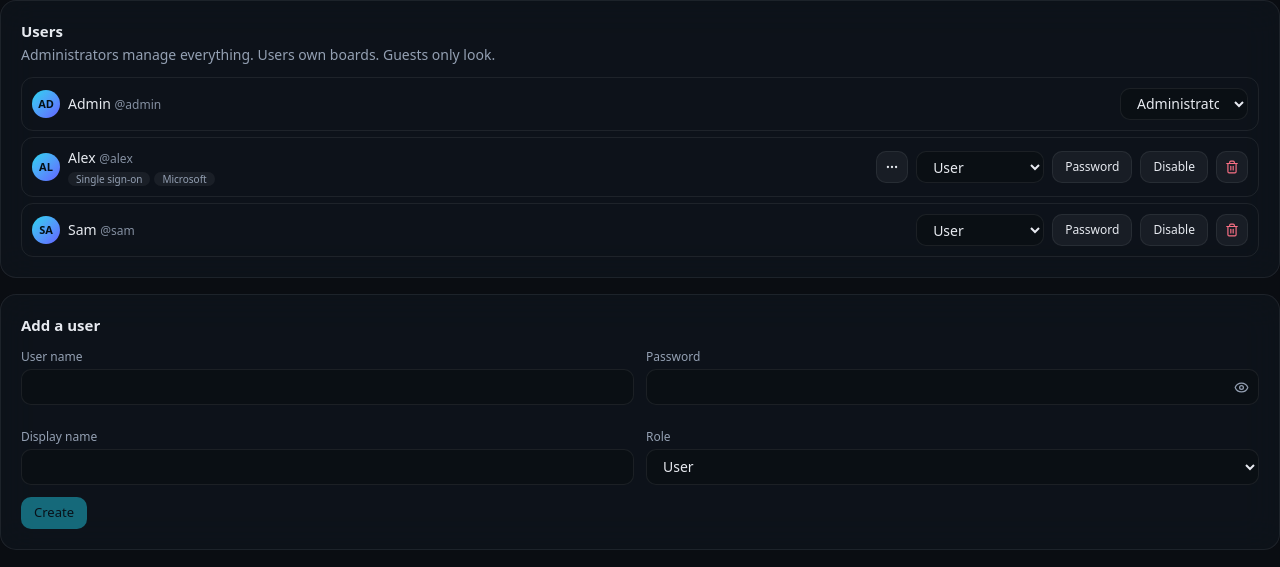
Test: the providers of an account › closes the menu with Escape and sends nothing
Click the button named "More for Alex": {"x": 892, "y": 167} [876, 151, 908, 183]
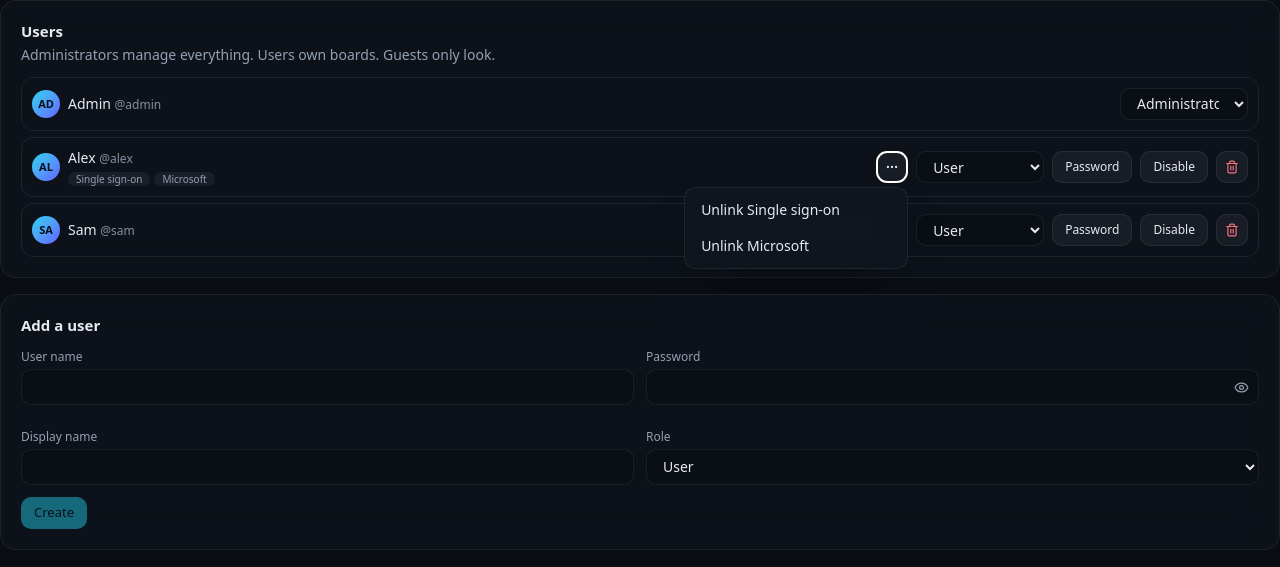
Expected: the menu is shown, [684, 187, 908, 269]
Press Escape
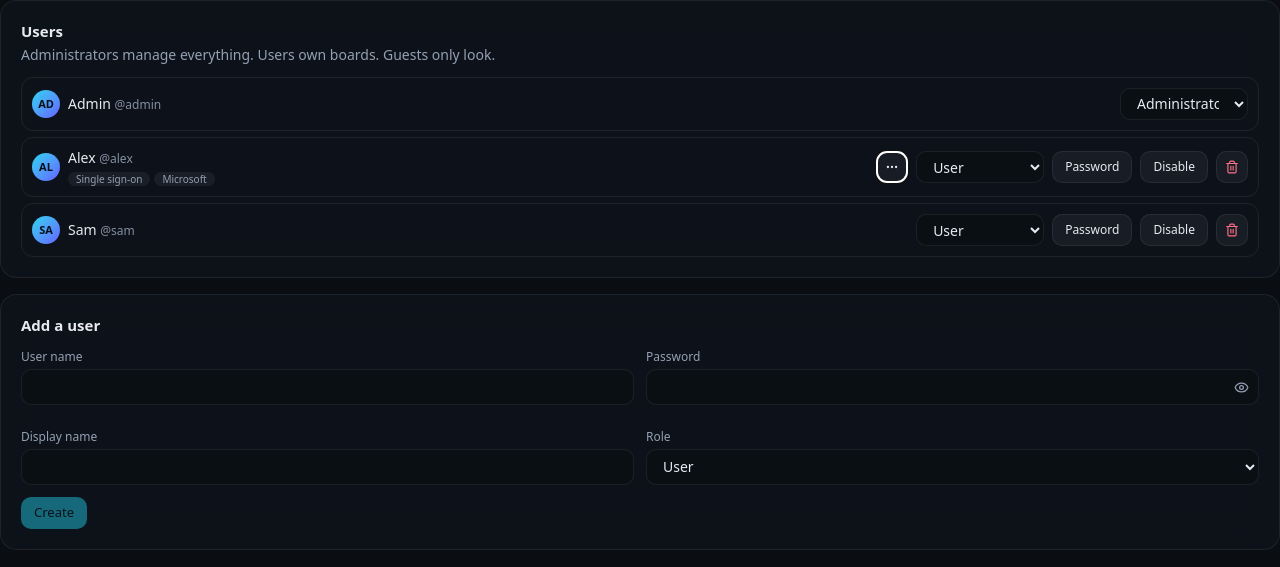
Expected: the menu is gone
